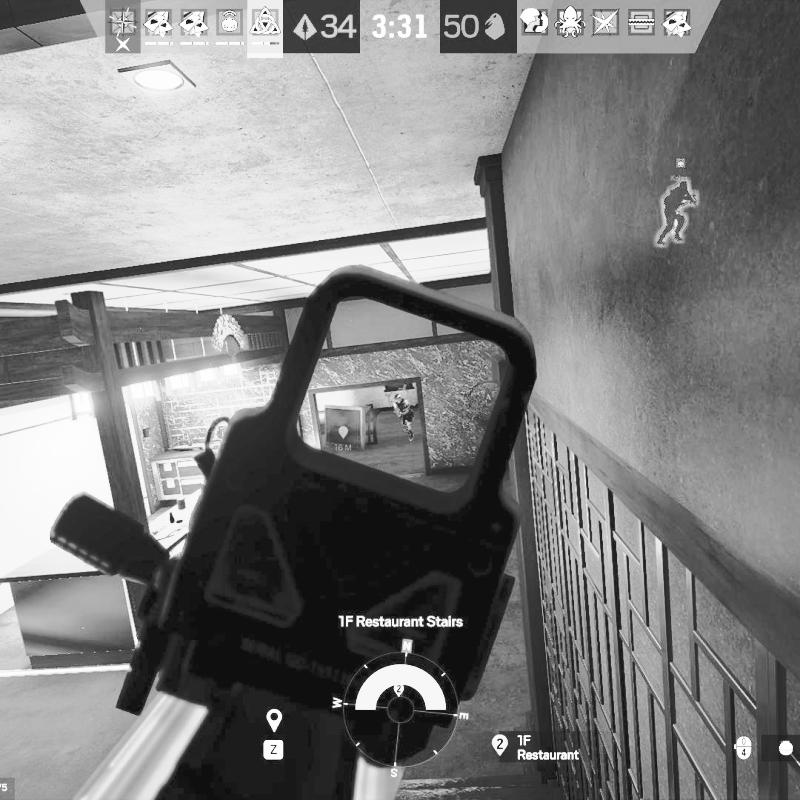Character: (389, 392, 417, 441)
Friend_label: (669, 157, 692, 182)
Head: (393, 392, 402, 403)
